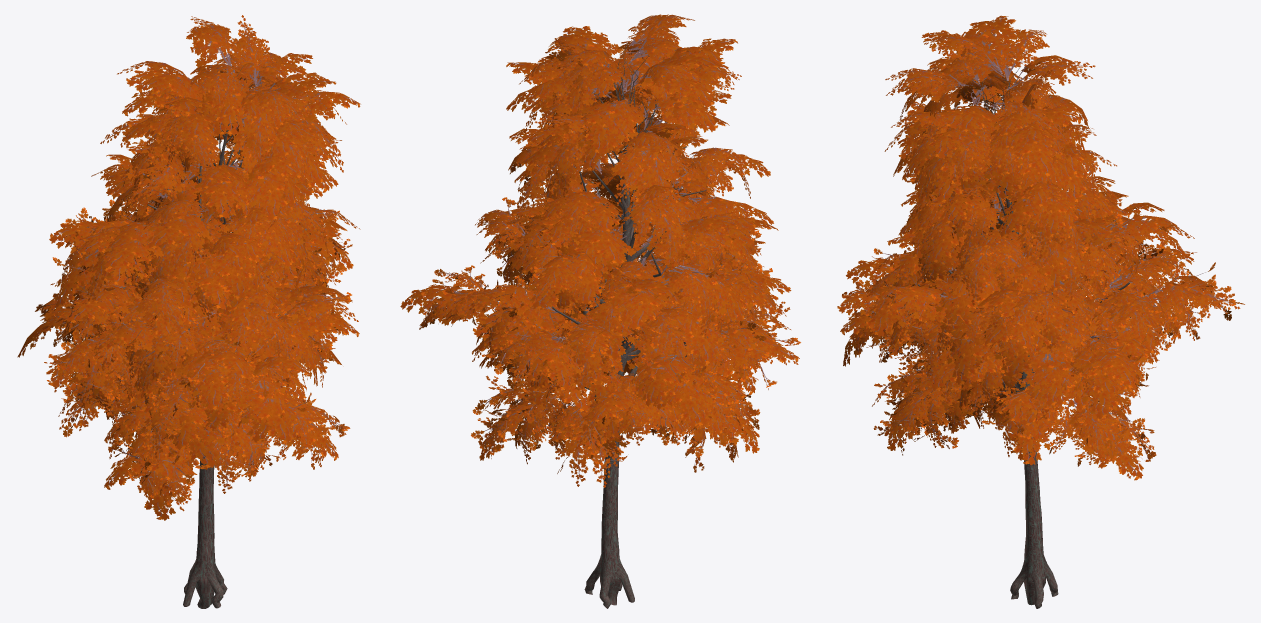
The picture shows the model from 3 angles, left to right: view 1: azimuth 30°, elevation 25°; view 2: azimuth 150°, elevation 25°; view 3: azimuth 270°, elevation 25°; orthographic projection. The views are drawn at different scales.
Parts seen in each view (by area): view 1: SM_MapleTree_02_Red_LOD0; view 2: SM_MapleTree_02_Red_LOD0; view 3: SM_MapleTree_02_Red_LOD0.
Boxes of the visible parts, x1,y1,x2,y2 form: SM_MapleTree_02_Red_LOD0: (17, 15, 360, 608); SM_MapleTree_02_Red_LOD0: (400, 14, 800, 608); SM_MapleTree_02_Red_LOD0: (837, 15, 1244, 608).
Size of the model in its own units: 13.76 by 21.84 by 14.63.
Materials: 2 (2 with a texture image).
